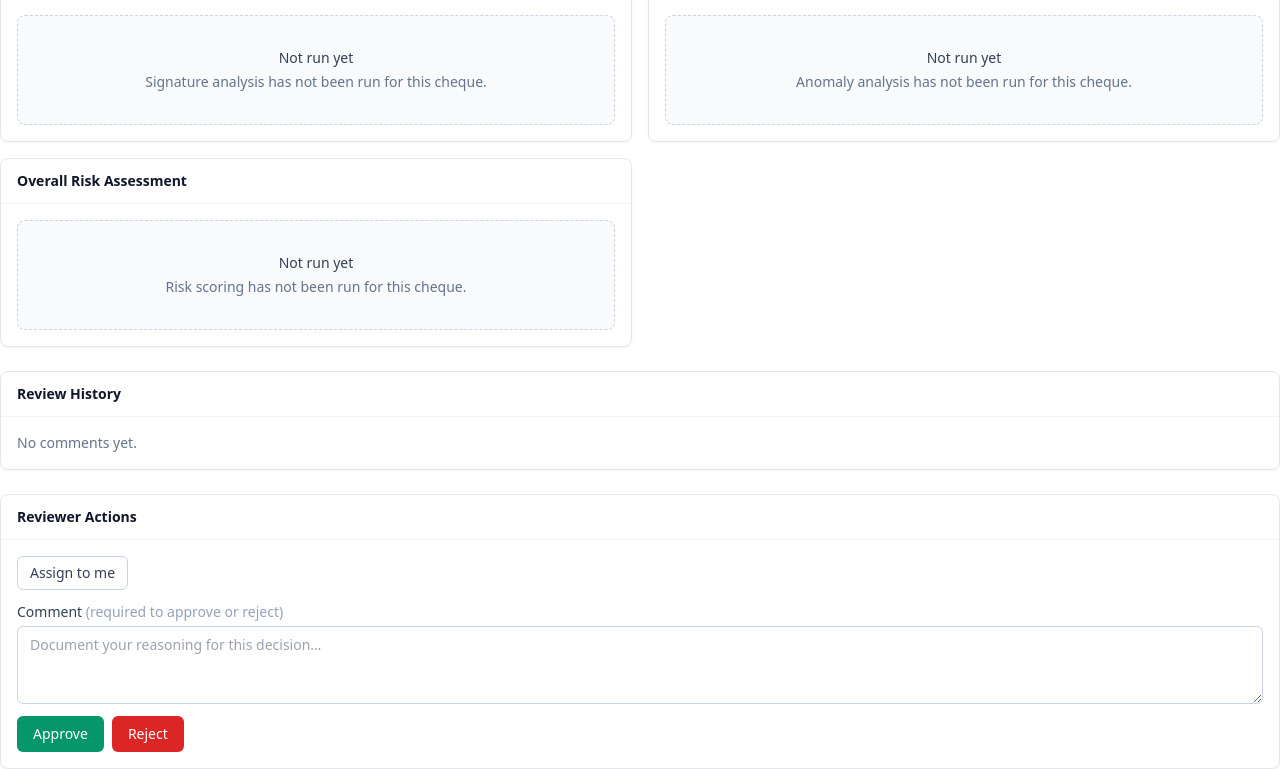
ReviewDetailPage › surfaces a 403 Forbidden response instead of pretending the action succeeded
(page scrolled)
Click the button "Assign to me": (72, 573) x1=17 y1=556 x2=128 y2=590
(page scrolled)
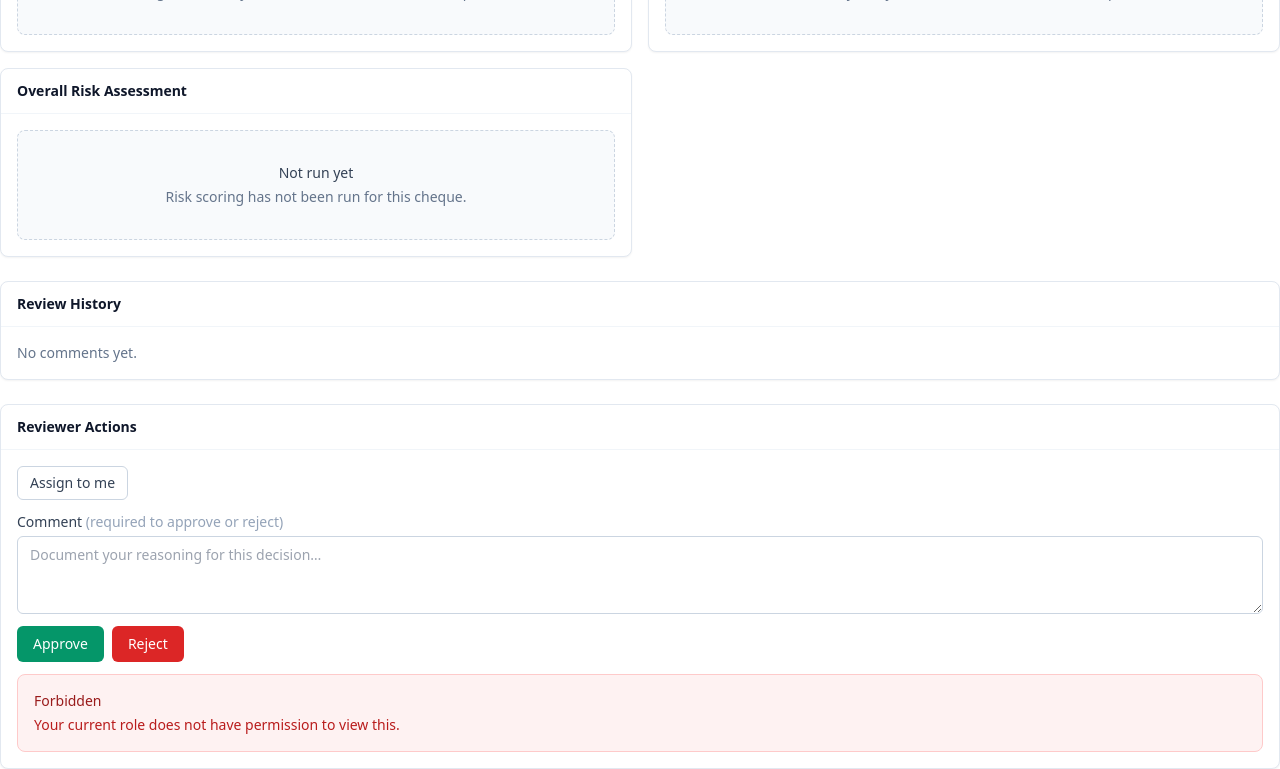
Expected: the text "Forbidden" is shown, x1=34 y1=691 x2=102 y2=710
